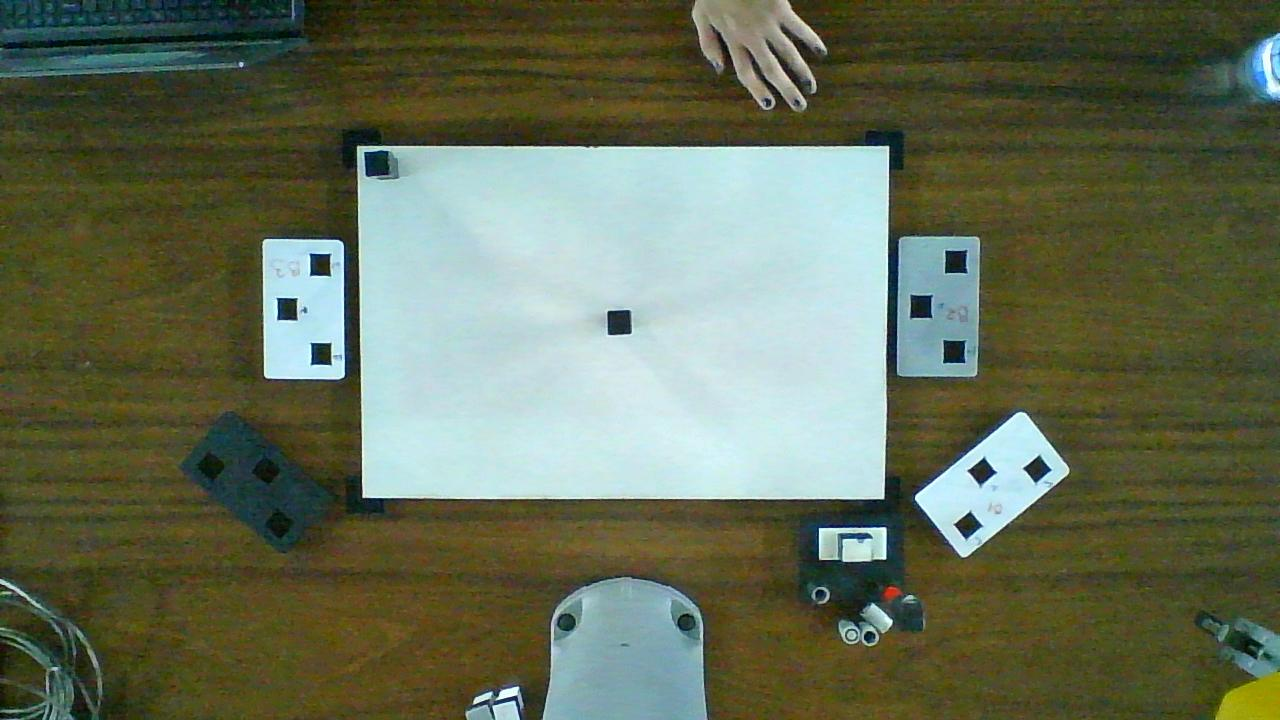peca_preta: (366, 152, 388, 175), (609, 312, 630, 334)
